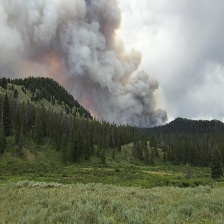smoke: (1, 2, 175, 125)
